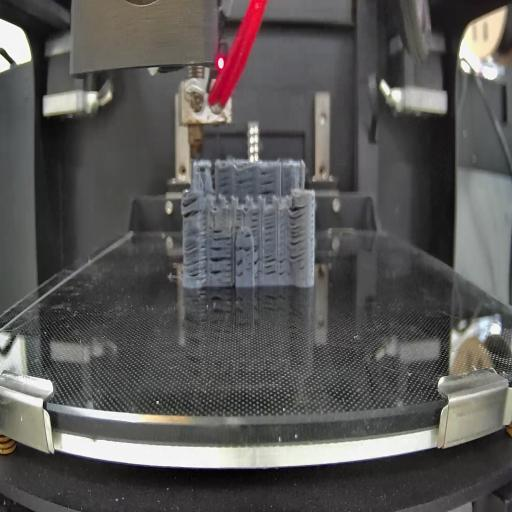cracks: (186, 226, 206, 280), (289, 203, 305, 263), (210, 245, 232, 280), (264, 252, 288, 279), (180, 200, 204, 220), (260, 169, 277, 197), (236, 174, 256, 194), (217, 170, 233, 194), (213, 227, 233, 245), (266, 212, 276, 244), (237, 259, 252, 279), (236, 244, 261, 254), (250, 208, 260, 232), (234, 208, 244, 231), (255, 257, 261, 280), (244, 232, 253, 240), (198, 167, 208, 173)
